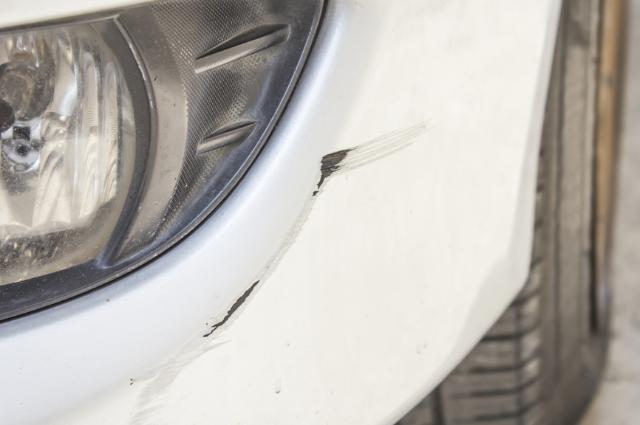Bumper: (152, 144, 442, 361), (74, 319, 244, 414)
